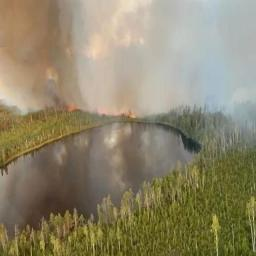Heavy smoke: (1, 0, 90, 111)
Small fire: (71, 101, 144, 120)
